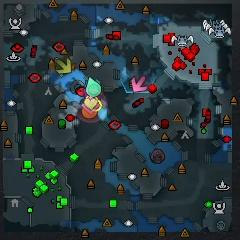Other: (82, 97, 98, 114)
p2: (86, 77, 101, 97)
p3: (84, 89, 101, 101)
p4: (95, 97, 102, 111)
p5: (82, 107, 98, 119)
x1: (131, 75, 147, 93)
x2: (56, 58, 72, 74)
